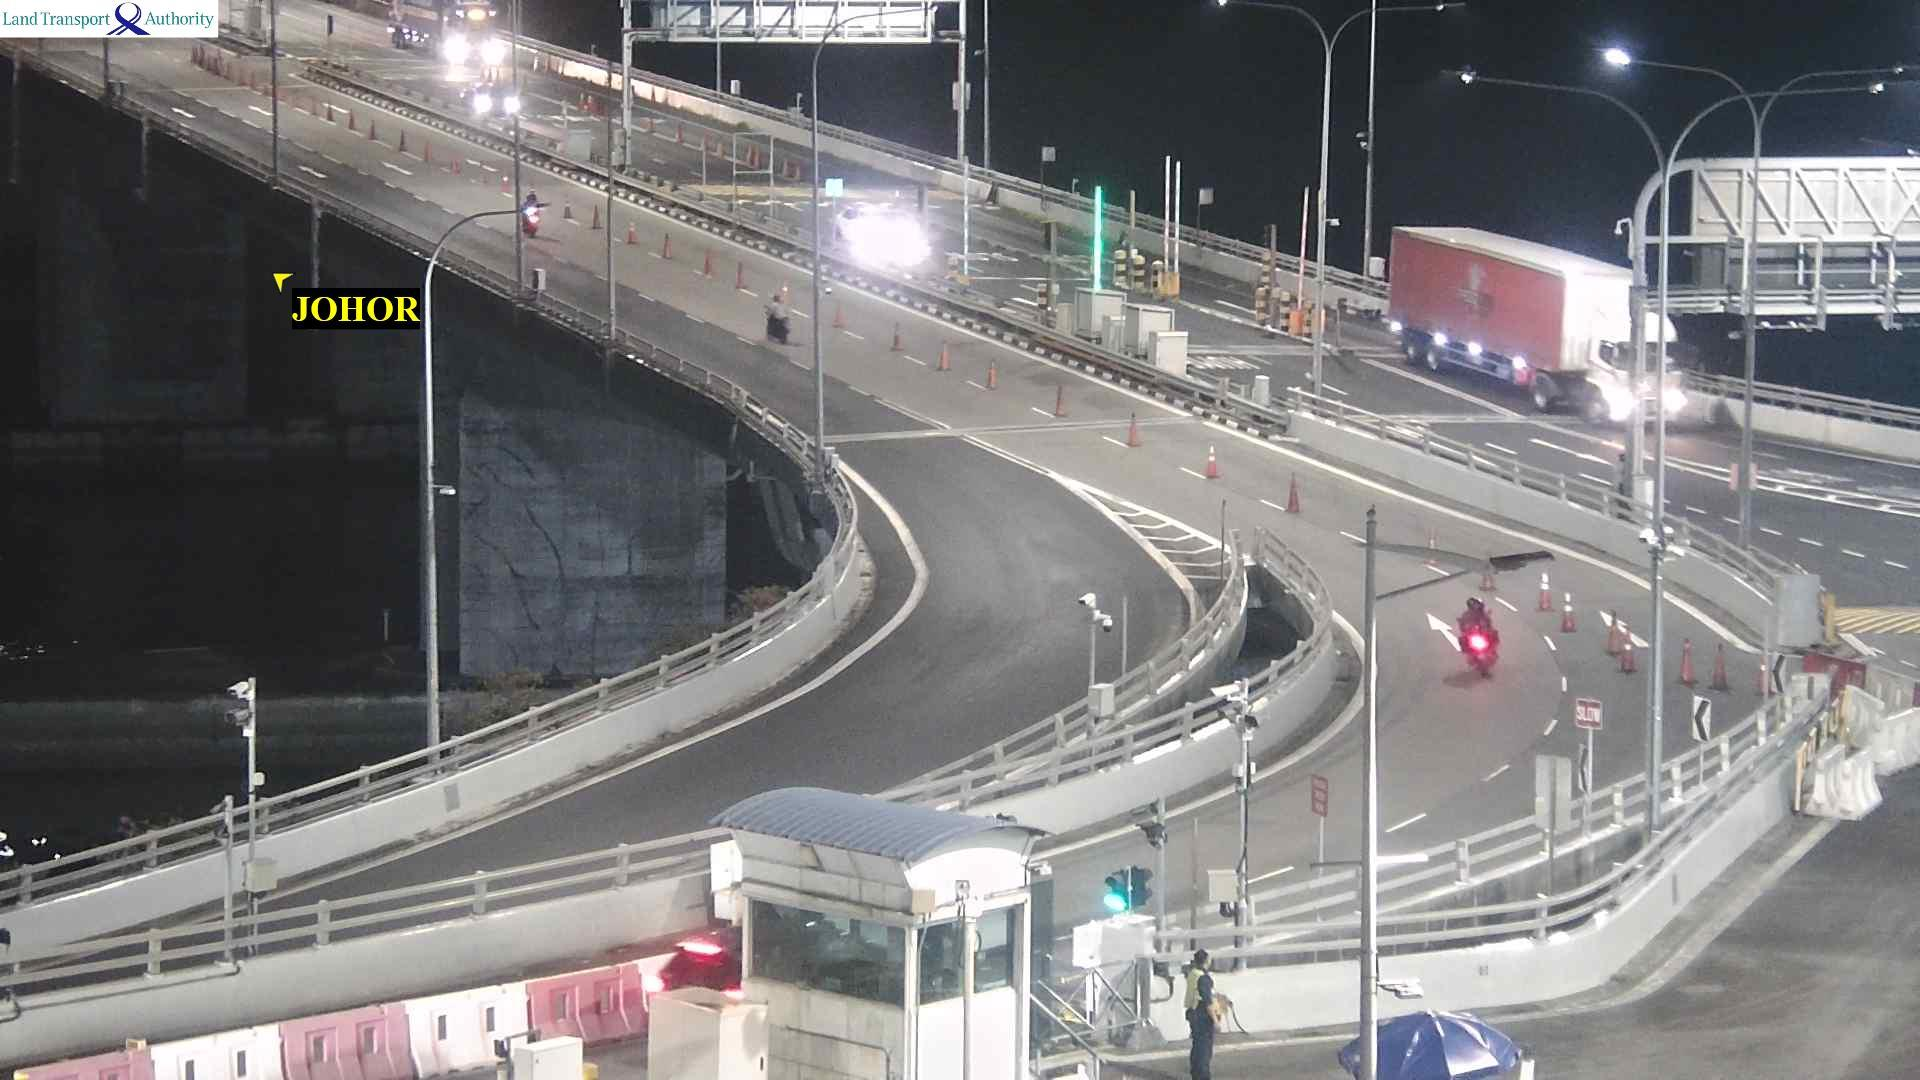vehicle-secondlink-johor: (1456, 598, 1497, 672), (765, 292, 793, 346), (527, 192, 539, 232)
vehicle-secondlink-singapore: (1388, 218, 1679, 429), (390, 0, 502, 76), (842, 208, 924, 267)
